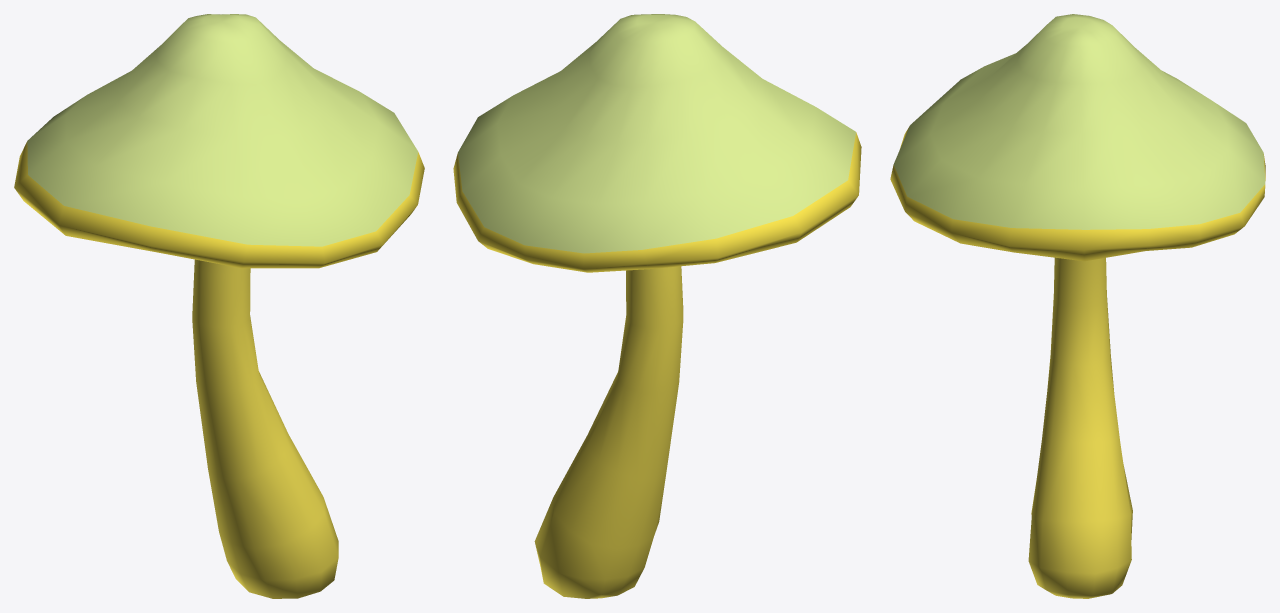
Rendered from mushroom 08.fbx.
3 renders of one model, left to right at view 1: azimuth 30°, elevation 25°; view 2: azimuth 150°, elevation 25°; view 3: azimuth 270°, elevation 25°, orthographic. The views are drawn at different scales.
Parts seen in each view (by area): view 1: Mushroom_0001_0008; view 2: Mushroom_0001_0008; view 3: Mushroom_0001_0008.
Part boxes in pixels (left/top/right/bottom): Mushroom_0001_0008: left=14, top=14, right=424, bottom=598; Mushroom_0001_0008: left=453, top=14, right=861, bottom=598; Mushroom_0001_0008: left=890, top=14, right=1265, bottom=598.
Bounding box in the file's own units: 13.85 × 21.06 × 13.41.
1 material, 1 textured.
